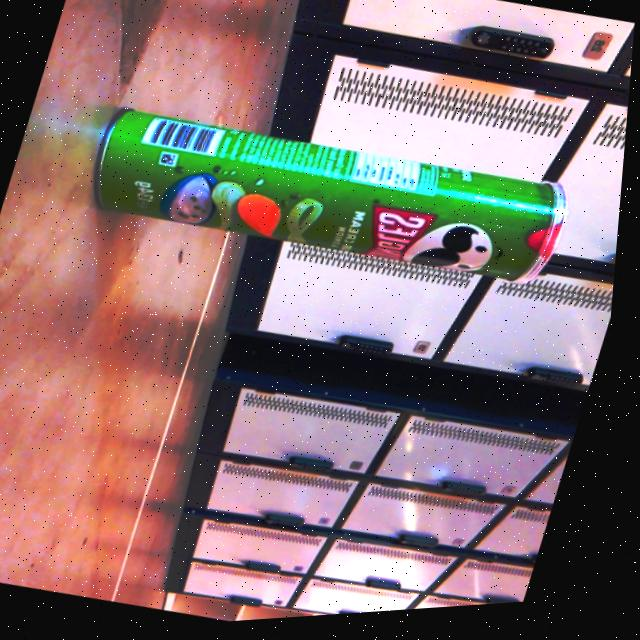greenpringles: (49, 61, 598, 334)
